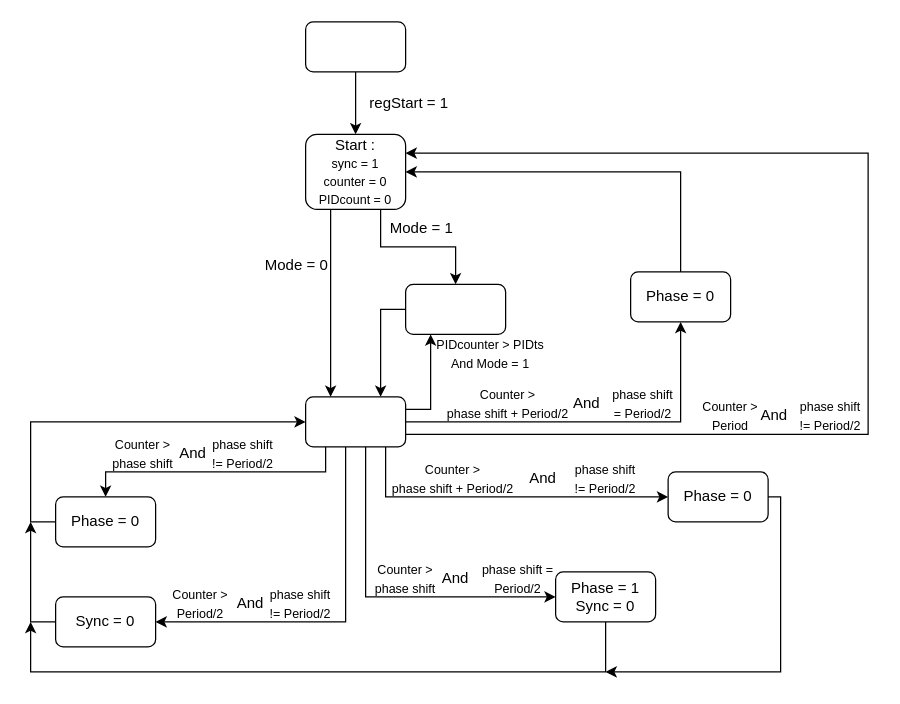
Image size: 900x704. Some labels were removed from this diagram. Each missing label, with the centre of its shape:
Counter: the point at 355,421
IDLE: the point at 355,46
PID calculations: the point at 455,308
